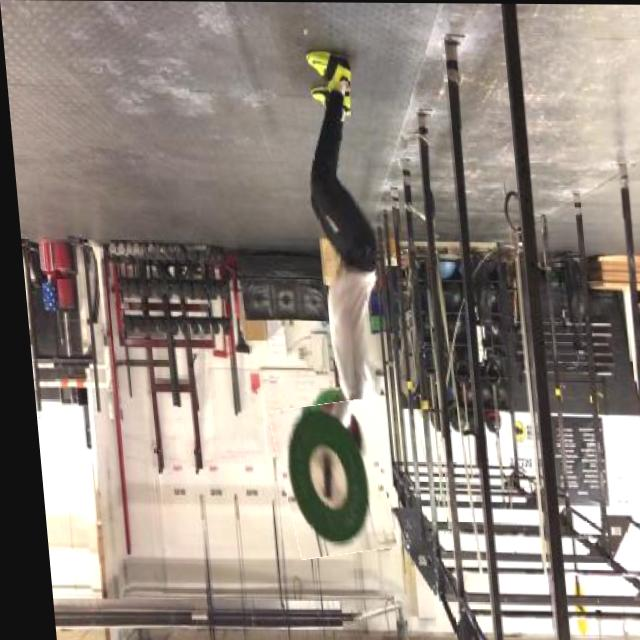barbell: (266, 402, 385, 558)
